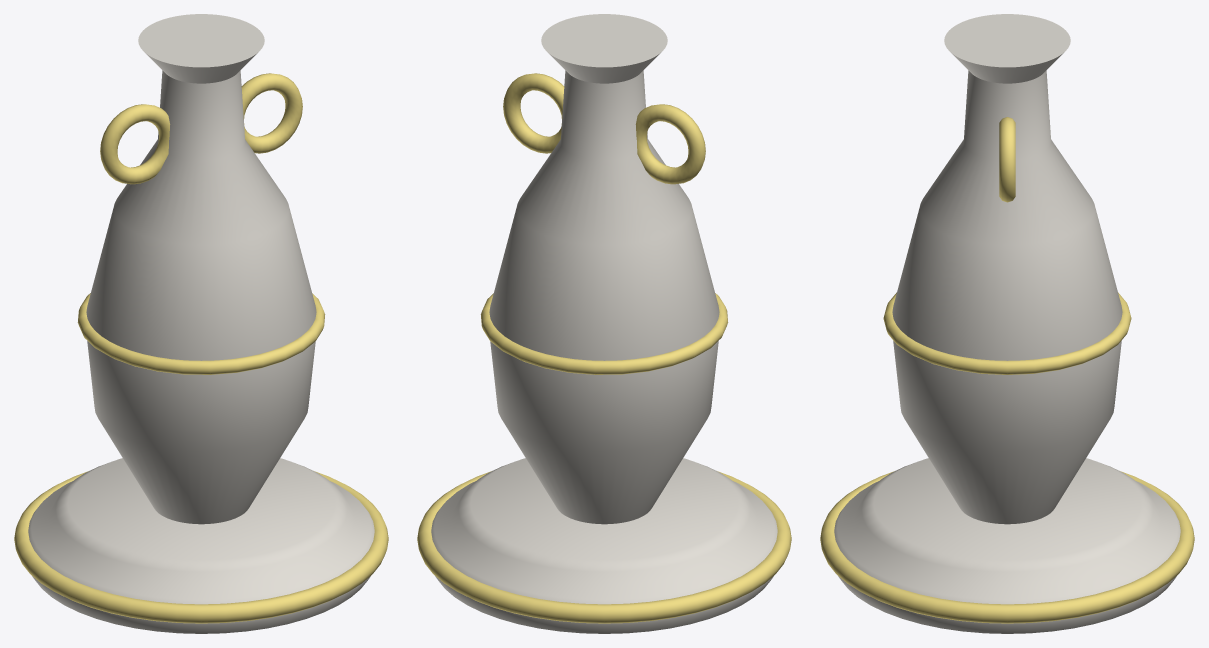
File: Santorini_Dama.fbx
3 renders of one model, left to right at view 1: azimuth 30°, elevation 25°; view 2: azimuth 150°, elevation 25°; view 3: azimuth 270°, elevation 25°, orthographic.
Visible parts, largest first — view 1: Santorini_Dama; view 2: Santorini_Dama; view 3: Santorini_Dama.
Part boxes in pixels (bbox=[...]): Santorini_Dama: bbox=[14, 14, 388, 633]; Santorini_Dama: bbox=[417, 14, 791, 633]; Santorini_Dama: bbox=[820, 14, 1194, 633].
Size of the model in its own units: 0.77 by 1.18 by 0.77.
